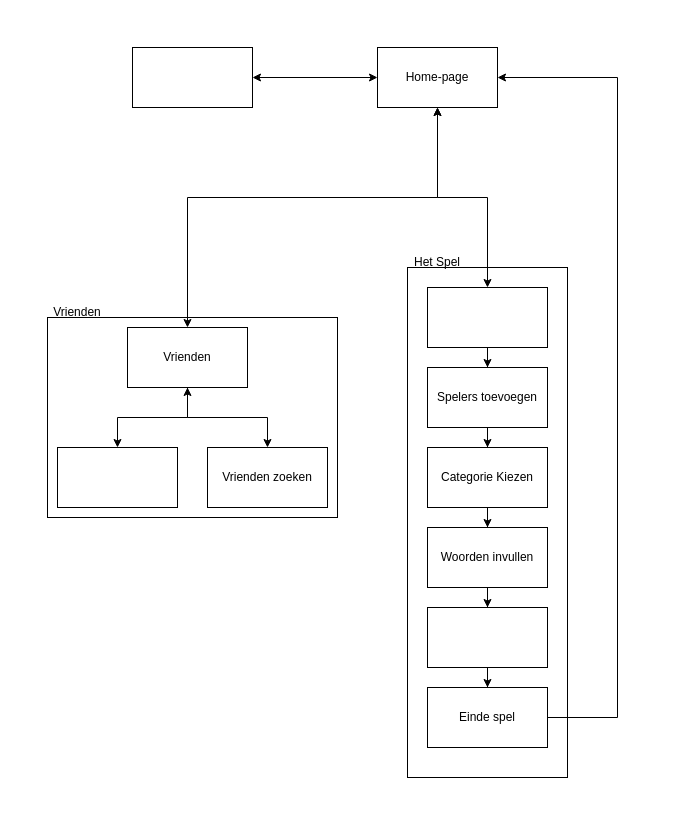
Some shapes in this 674 by 834 pixel diagram are drawn without their labels. Here are the shapes that lost their labels. From the top down, the centre of each, then its label:
At pixel 192 77: "Regels".
At pixel 487 317: "Begin Spel".
At pixel 117 477: "Vrienden uitnodigen".
At pixel 487 637: "Woorden vergelijken".
